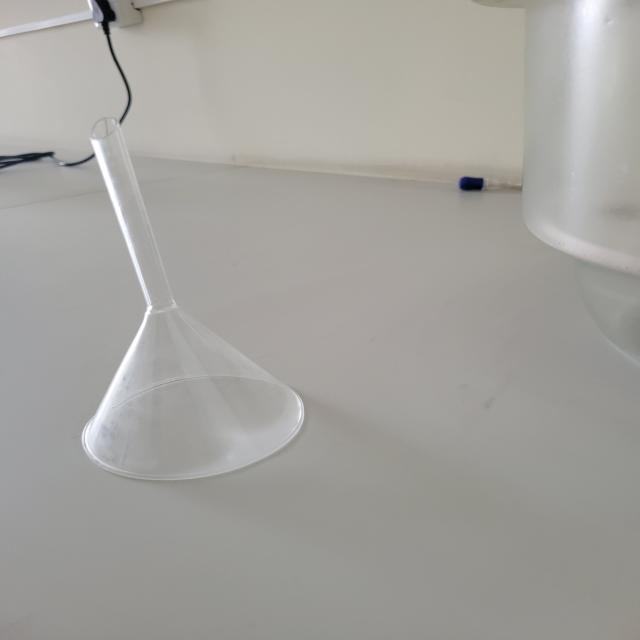Funnel: (38, 97, 324, 498)
